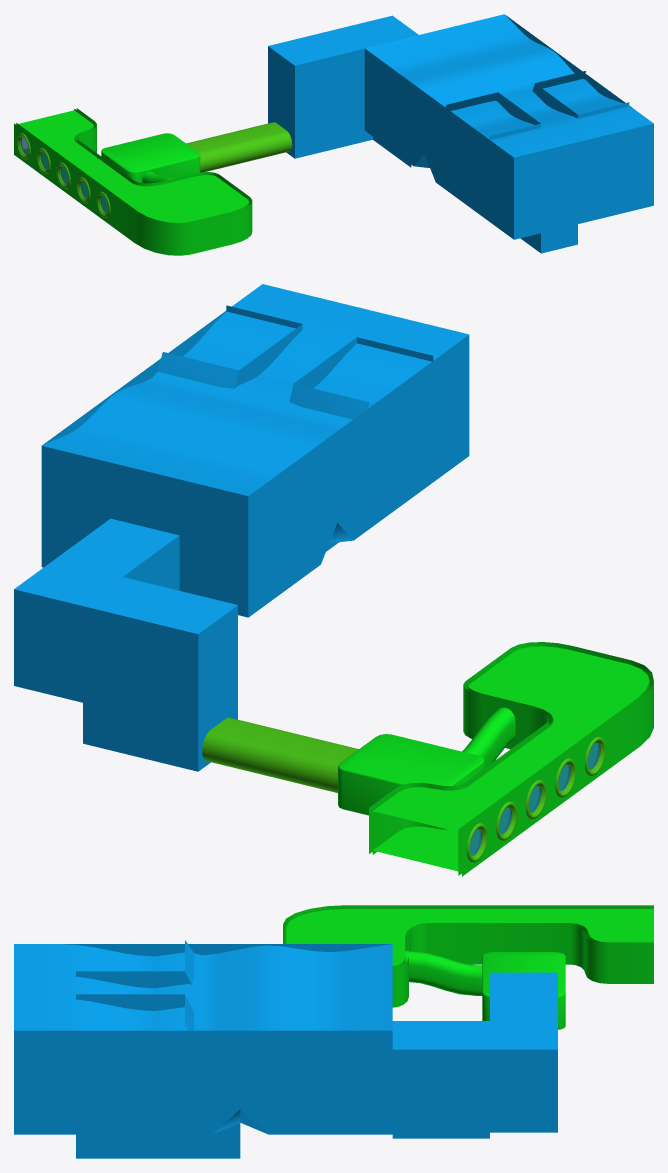
File: Hous3.fbx
3 views of the same model, one above another, from view 1: azimuth 30°, elevation 25°; view 2: azimuth 150°, elevation 25°; view 3: azimuth 270°, elevation 25° (orthographic). The views are drawn at different scales.
Parts seen in each view (by area): view 1: HousePart2, SectionOne.006; view 2: HousePart2, SectionOne.006; view 3: HousePart2, SectionOne.006.
Boxes of the visible parts, x1,y1,x2,y2 form: HousePart2: (268, 14, 653, 253); SectionOne.006: (14, 108, 292, 255); HousePart2: (14, 284, 469, 771); SectionOne.006: (202, 642, 653, 876); HousePart2: (14, 940, 557, 1158); SectionOne.006: (283, 905, 653, 1029).
Size of the model in its own units: 3222 by 1065 by 3628.
